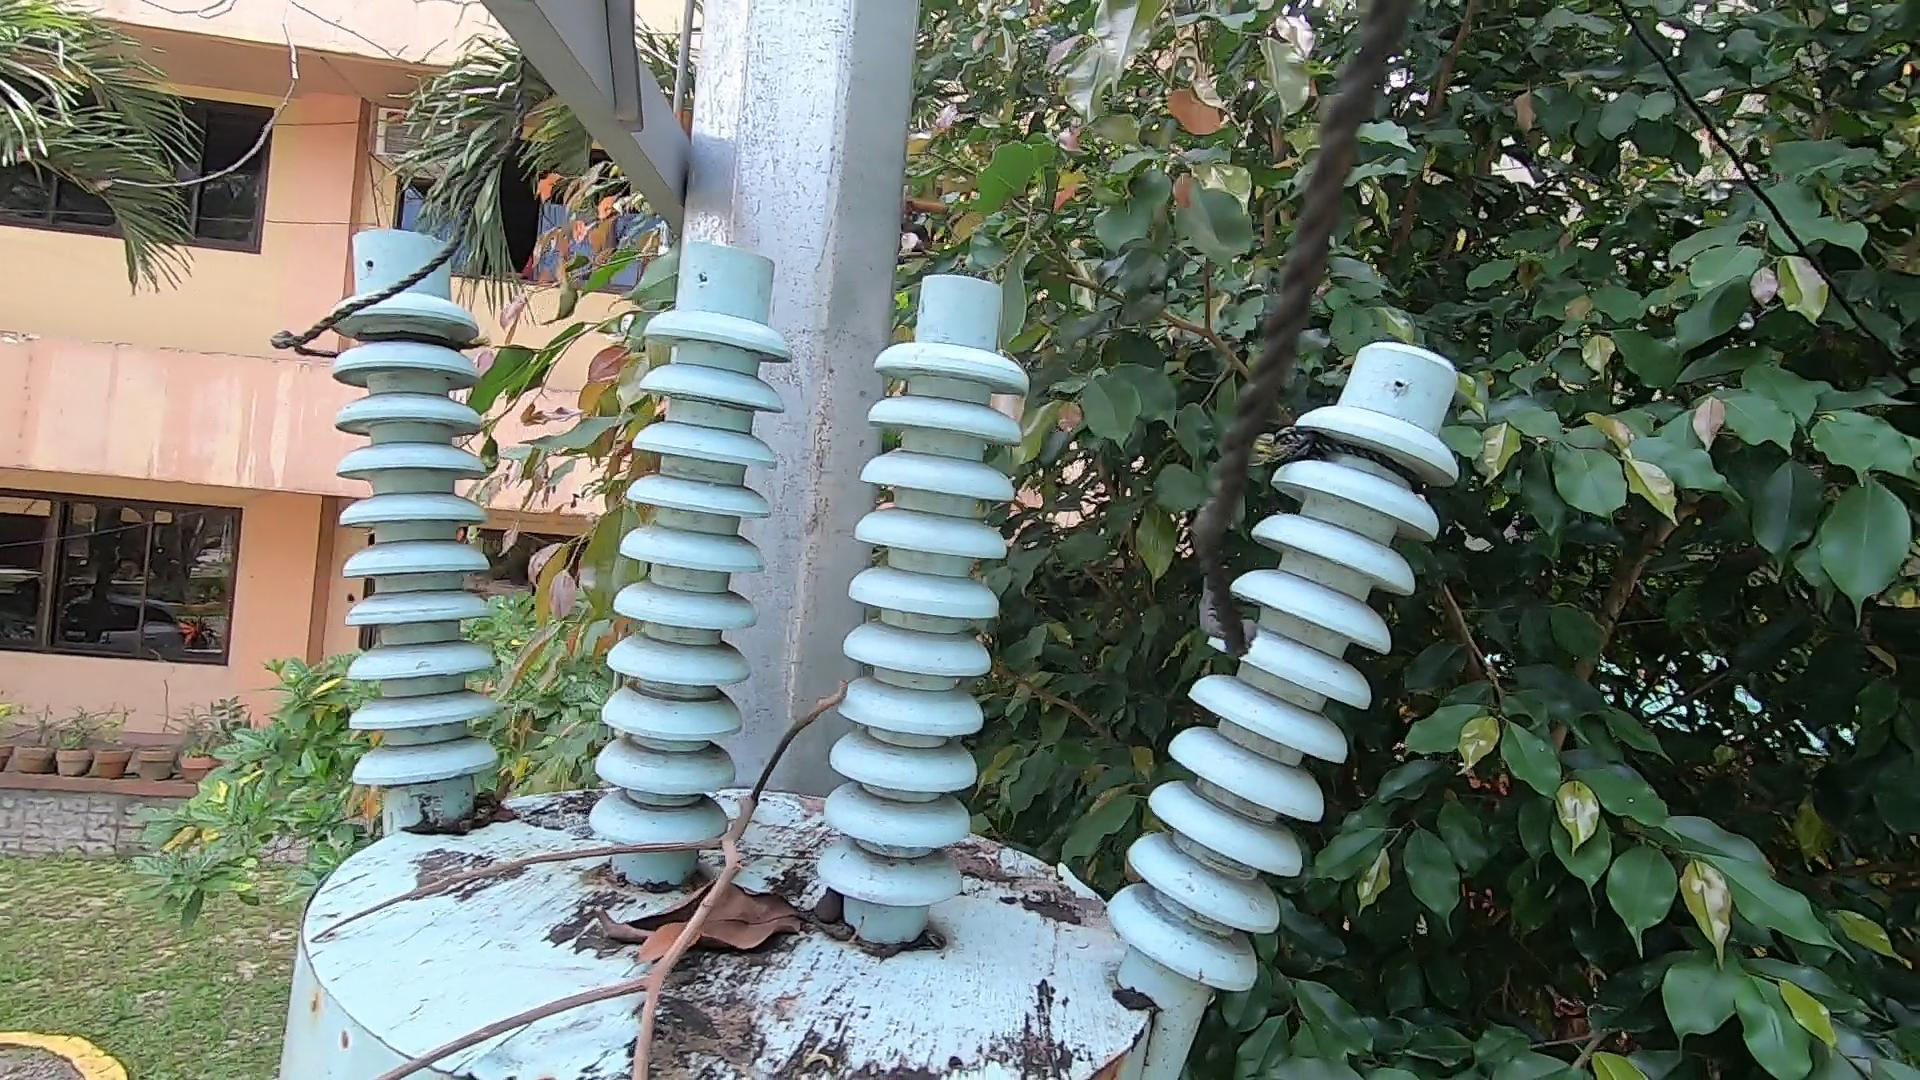leaf: (588, 869, 844, 959), (963, 835, 1104, 932), (392, 775, 524, 827)
tree branch: (315, 673, 891, 1080)
